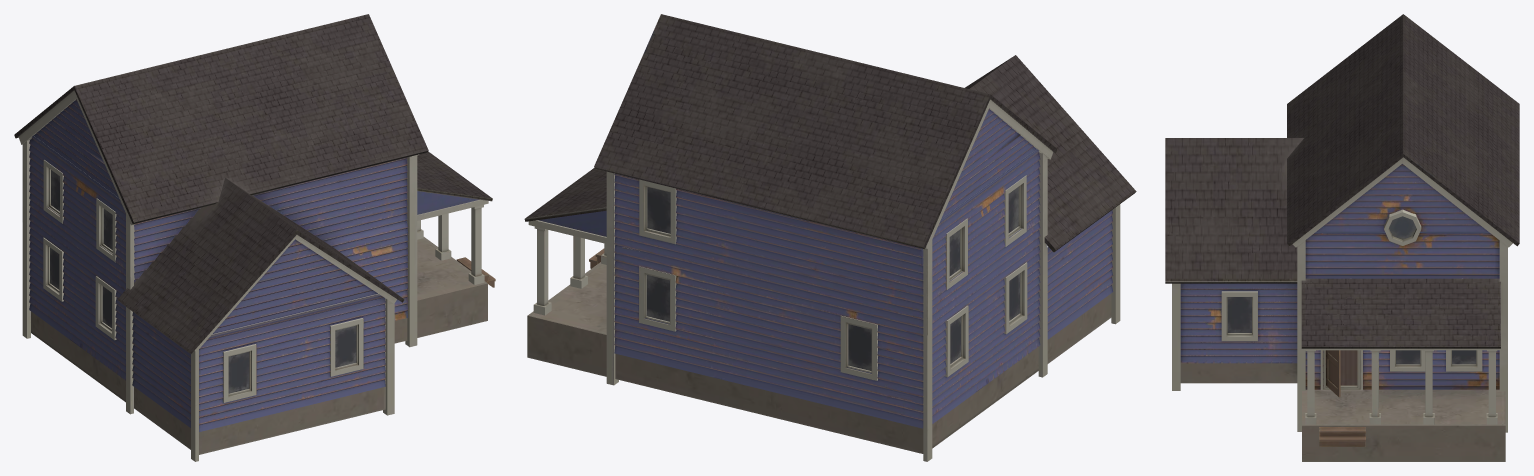
The model's file is blue_gable_house.glb.
3 views of the same model, side by side, from view 1: azimuth 30°, elevation 25°; view 2: azimuth 150°, elevation 25°; view 3: azimuth 270°, elevation 25° (orthographic). The views are drawn at different scales.
Visible parts, largest first — view 1: blue_gable_house; view 2: blue_gable_house; view 3: blue_gable_house.
Boxes of the visible parts, x1=… form: blue_gable_house: x1=14, y1=14, x2=495, y2=461; blue_gable_house: x1=524, y1=14, x2=1136, y2=461; blue_gable_house: x1=1165, y1=14, x2=1519, y2=461.
Bounding box in the file's own units: 9.84 × 7.06 × 8.06.
Materials: 5 (5 with a texture image).
